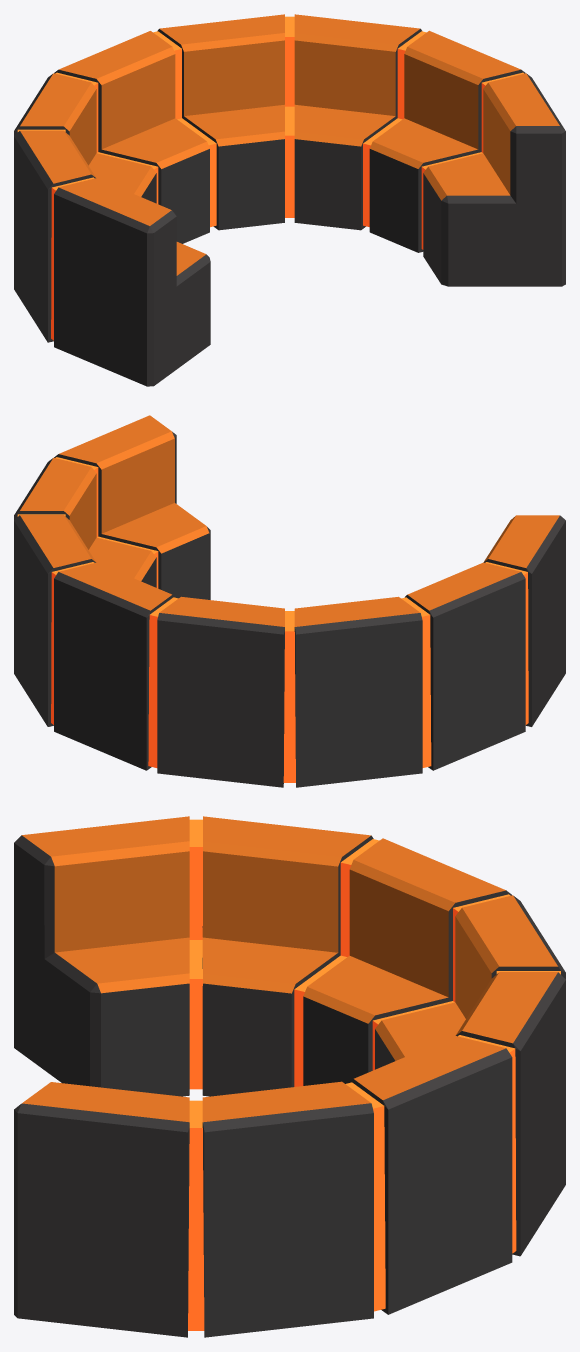
File: scifi_scifi-sofa-round.fbx
3 renders of one model, top to bottom at view 1: azimuth 30°, elevation 25°; view 2: azimuth 150°, elevation 25°; view 3: azimuth 270°, elevation 25°, orthographic. The views are drawn at different scales.
Visible parts, largest first — view 1: scifi_scifi_sofa_round; view 2: scifi_scifi_sofa_round; view 3: scifi_scifi_sofa_round.
Boxes of the visible parts, x1,y1,x2,y2 form: scifi_scifi_sofa_round: (14, 14, 565, 386); scifi_scifi_sofa_round: (14, 415, 565, 787); scifi_scifi_sofa_round: (14, 816, 565, 1337).
Size of the model in its own units: 200 by 63.29 by 149.
